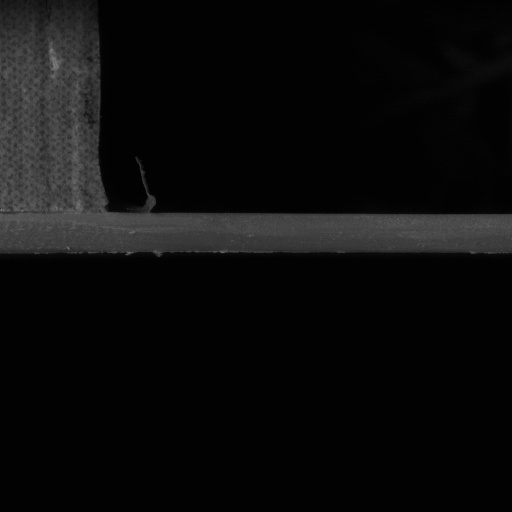changdai: (101, 204, 511, 259)
